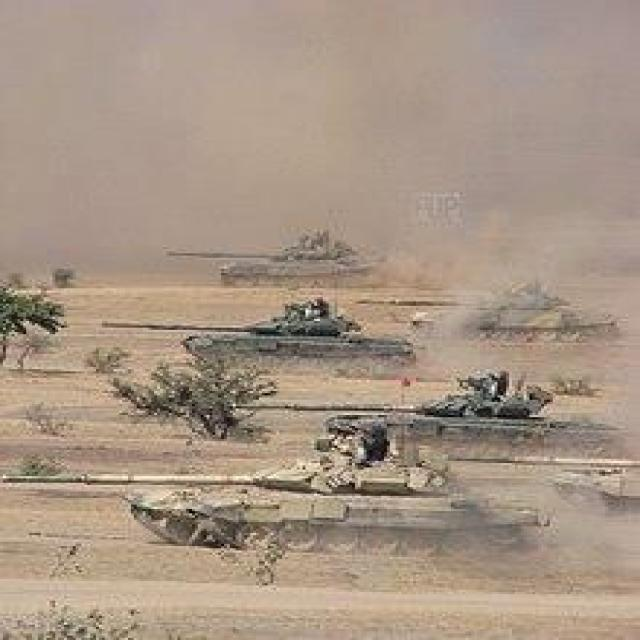Tanks: (167, 426, 435, 561), (215, 300, 410, 370), (227, 220, 396, 290), (412, 386, 574, 451), (466, 271, 564, 352)
